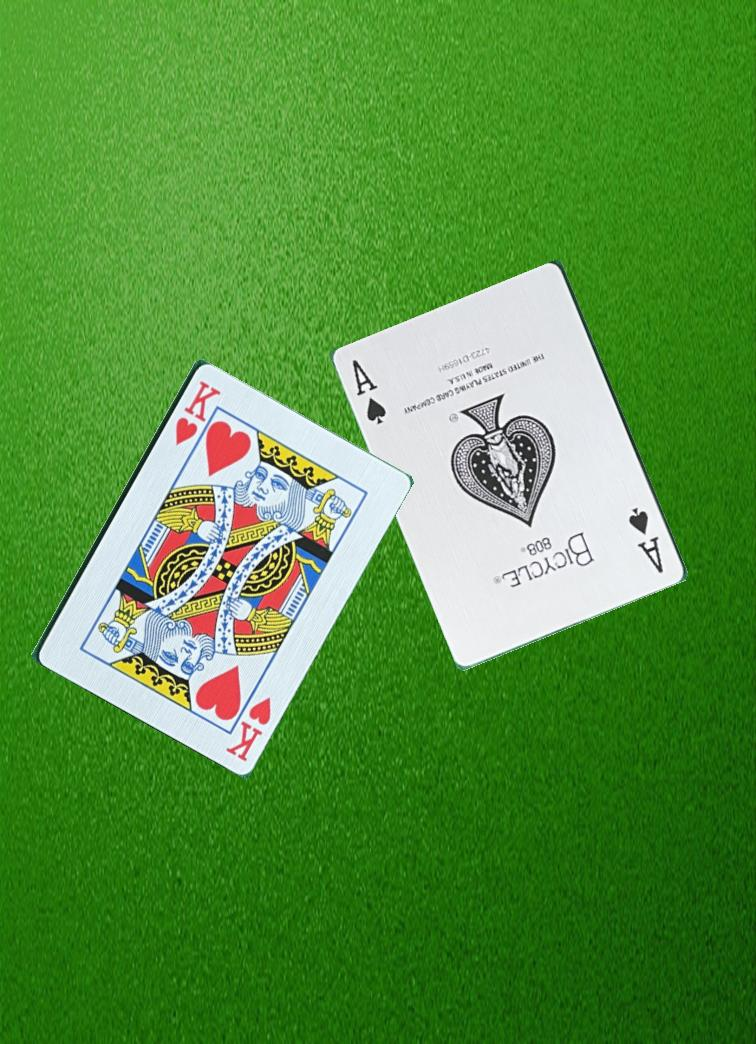as: (625, 503, 667, 577), (349, 356, 390, 430)
kh: (221, 692, 274, 764), (171, 376, 221, 450)
